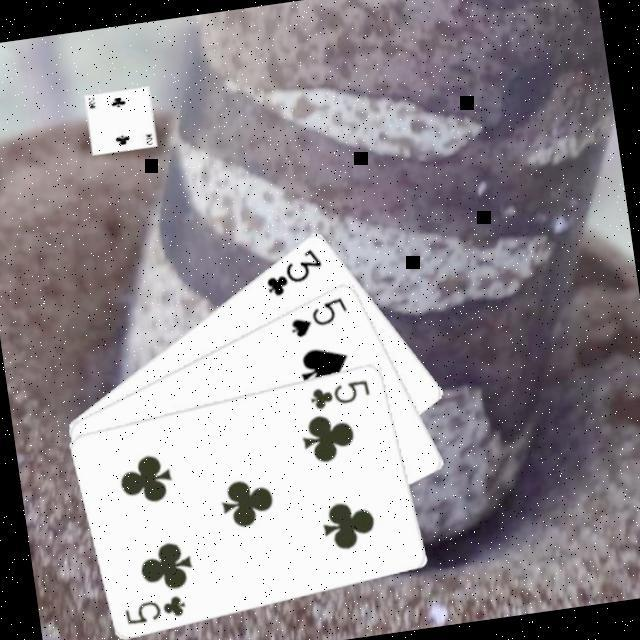3C: (257, 242, 327, 299)
5C: (303, 373, 373, 412), (119, 589, 189, 628)
5S: (282, 291, 351, 340)
